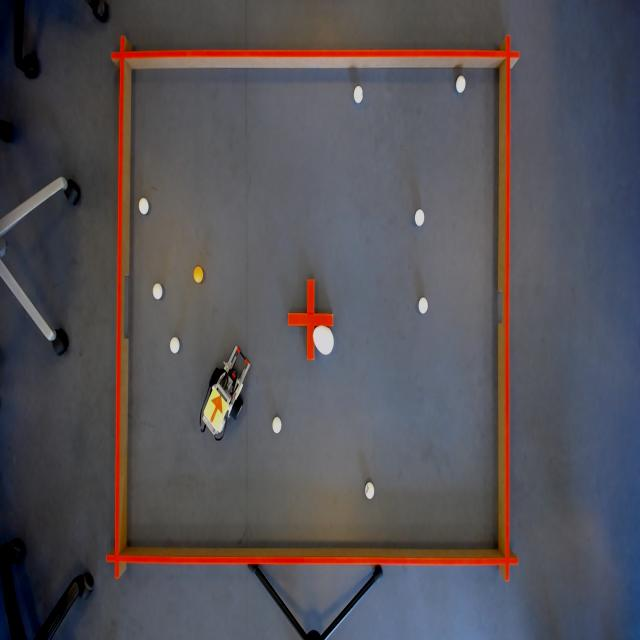cross: (287, 276, 335, 363)
egg: (310, 322, 336, 359)
orange_ball: (193, 265, 205, 285)
robot: (203, 386, 229, 435)
white_ball: (363, 478, 377, 503), (413, 207, 427, 229), (137, 195, 150, 218), (416, 295, 430, 316), (152, 280, 164, 303), (455, 73, 467, 95), (170, 334, 181, 356), (353, 84, 364, 105), (272, 416, 283, 435)
